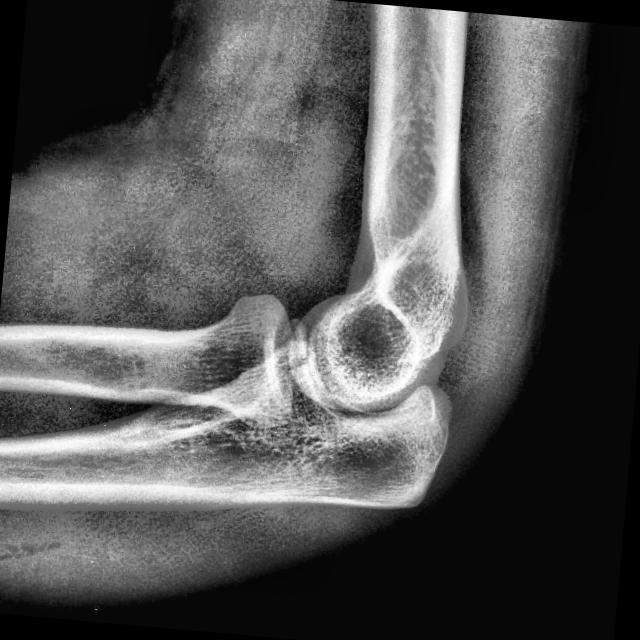elbow positive: (254, 334, 323, 394)
